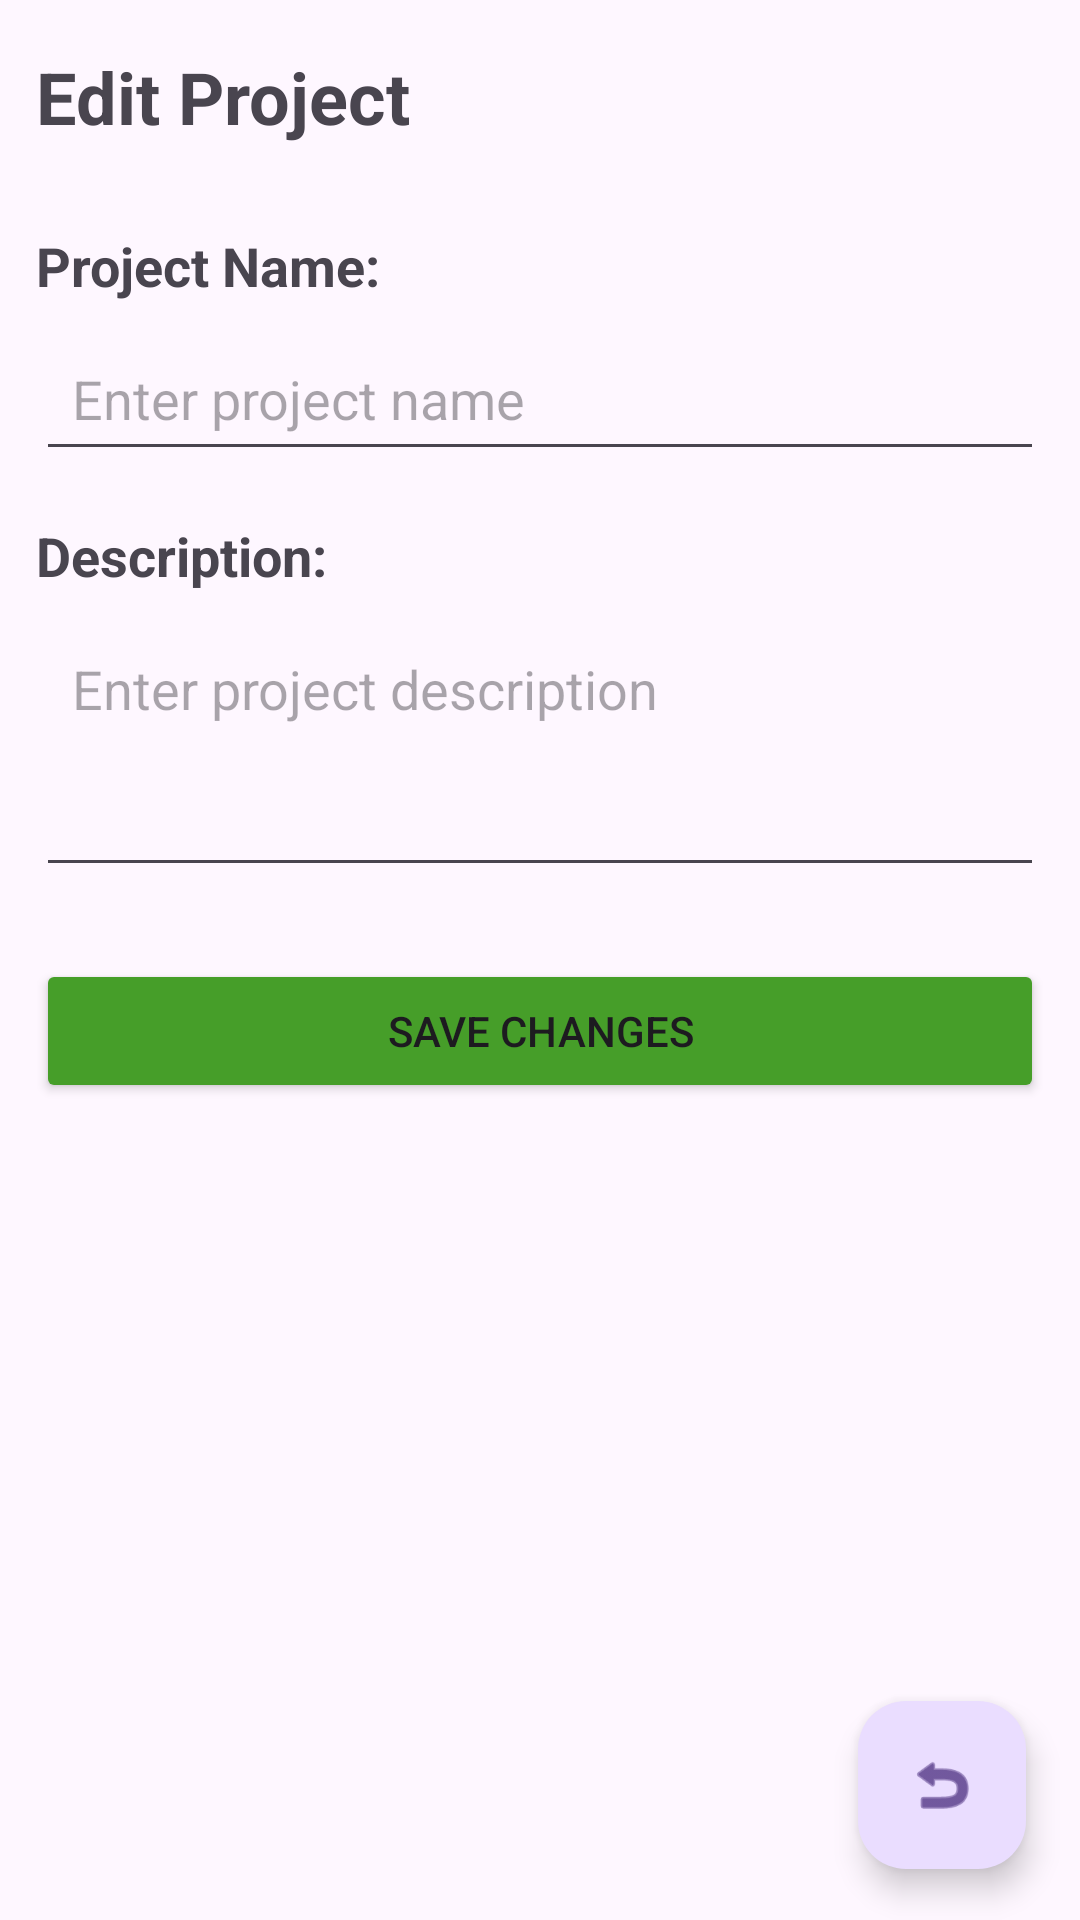

Icons on this 1080 x 1920 Android screen, each with its box as (x1, y1, x2, y2):
Return: (858, 1701, 1026, 1869)
